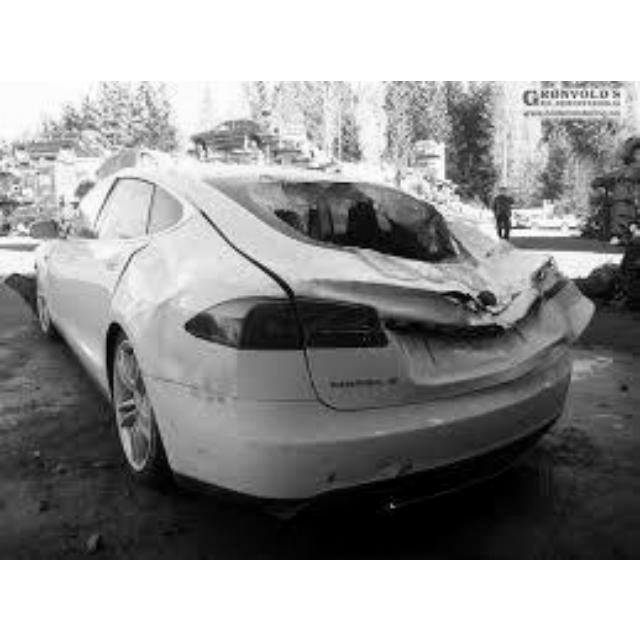Rear-windscreen-Damage: (257, 169, 457, 257)
boot-dent: (366, 268, 561, 376)
